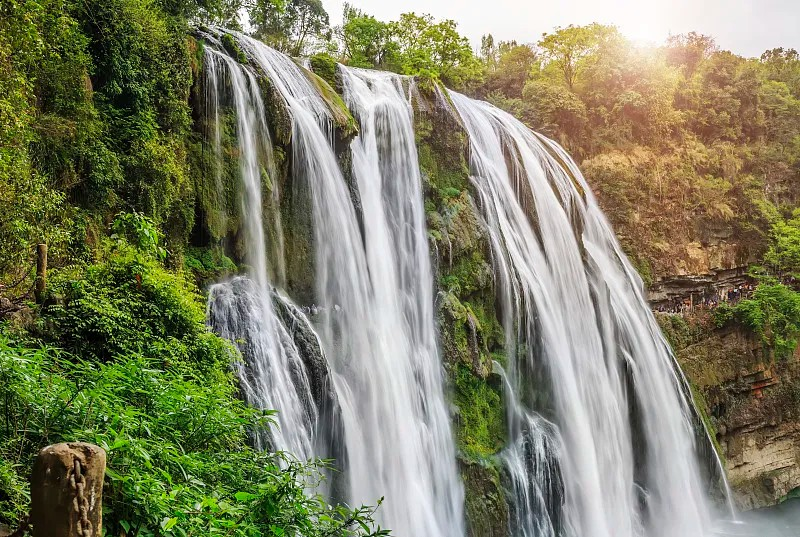Huangguoshu: (191, 17, 732, 537)
